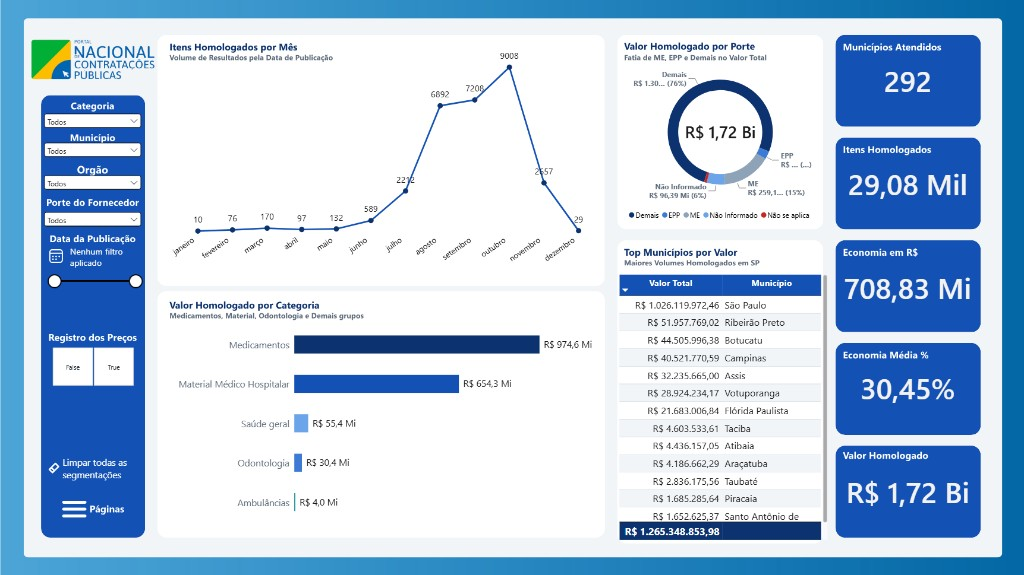

This screenshot's page, from the dashboard's own definition file:
{"tool":"powerbi","page":{"name":"Visão geral","canvas":[1920,1080],"ordinal":0},"visuals":[{"type":"cardVisual","fields":{"Data":["CountNonNull(pncp vw_analitica.numero_item)"]},"box":[1563.2,253.5,270.7,178.2],"z":0},{"type":"cardVisual","fields":{"Data":["Sum(pncp vw_analitica.valor_total_homologado)"]},"box":[1563.2,834.4,270.7,171.6],"z":1000},{"type":"cardVisual","fields":{"Data":["Medidas.Economia Media %"]},"box":[1563.2,637.7,270.7,174.3],"z":2000},{"type":"cardVisual","fields":{"Data":["Sum(pncp vw_analitica.economia_valor_total)"]},"box":[1563.2,447.6,270.7,178.2],"z":3000},{"type":"cardVisual","fields":{"Data":["Count(pncp vw_analitica.municipio)"]},"box":[1563.2,63.4,270.7,173],"z":4000},{"type":"barChart","fields":{"Category":["pncp vw_analitica.Categoria Label"],"Y":["Sum(pncp vw_analitica.valor_total_homologado)"]},"box":[302.3,577,822.5,429.1],"z":5000},{"type":"lineChart","fields":{"Category":["pncp vw_analitica.data_resultado.Variação.Hierarquia de datas.Mês"],"Y":["CountNonNull(pncp vw_analitica.categoria)"]},"box":[302.3,68.7,822.5,456.8],"z":6000},{"type":"donutChart","fields":{"Category":["pncp vw_analitica.porte_fornecedor"],"Y":["Medidas.Valor Homologado"]},"box":[1159.2,93.7,377.6,339.3],"z":7000},{"type":"tableEx","fields":{"Values":["Sum(pncp vw_analitica.valor_total_homologado)","pncp vw_analitica.municipio"]},"box":[1141.8,500.4,421.8,526.5],"z":8000},{"type":"slicer","fields":{"Values":["pncp vw_analitica.Categoria Label"]},"box":[78.5,208,190.5,66.9],"z":9000},{"type":"slicer","fields":{"Values":["pncp vw_analitica.municipio"]},"box":[78.5,261.8,190.5,65.5],"z":10000},{"type":"slicer","fields":{"Values":["pncp vw_analitica.orgao"]},"box":[78.5,322.9,190.5,50.9],"z":11000},{"type":"slicer","fields":{"Values":["pncp vw_analitica.porte_fornecedor"]},"box":[78.5,392.7,190.5,55.3],"z":12000},{"type":"slicer","fields":{"Values":["pncp vw_analitica.data_publicacao"]},"box":[80,455.3,191.4,170.3],"z":13000},{"type":"slicer","fields":{"Values":["pncp vw_analitica.registro_precos"]},"box":[78.5,648.7,191.4,75.3],"z":14000},{"type":"actionButton","box":[114,931.5,123.2,41.1],"z":15000},{"type":"actionButton","box":[80,834.9,189.1,85.8],"z":17000}]}

Visuals, with their boxes in screenshot pixels (x1, y1, x2, y2), scaled from the page's 1920x1080 canvas onto the 1024x575 screenshot:
cardVisual - CountNonNull(pncp vw_analitica.numero_item): bbox(834, 135, 978, 230)
cardVisual - Sum(pncp vw_analitica.valor_total_homologado): bbox(834, 444, 978, 536)
cardVisual - Medidas.Economia Media %: bbox(834, 340, 978, 432)
cardVisual - Sum(pncp vw_analitica.economia_valor_total): bbox(834, 238, 978, 333)
cardVisual - Count(pncp vw_analitica.municipio): bbox(834, 34, 978, 126)
barChart - pncp vw_analitica.Categoria Label x Sum(pncp vw_analitica.valor_total_homologado): bbox(161, 307, 600, 536)
lineChart - pncp vw_analitica.data_resultado.Variação.Hierarquia de datas.Mês x CountNonNull(pncp vw_analitica.categoria): bbox(161, 37, 600, 280)
donutChart - pncp vw_analitica.porte_fornecedor x Medidas.Valor Homologado: bbox(618, 50, 820, 231)
tableEx - Sum(pncp vw_analitica.valor_total_homologado) x pncp vw_analitica.municipio: bbox(609, 266, 834, 547)
slicer - pncp vw_analitica.Categoria Label: bbox(42, 111, 143, 146)
slicer - pncp vw_analitica.municipio: bbox(42, 139, 143, 174)
slicer - pncp vw_analitica.orgao: bbox(42, 172, 143, 199)
slicer - pncp vw_analitica.porte_fornecedor: bbox(42, 209, 143, 239)
slicer - pncp vw_analitica.data_publicacao: bbox(43, 242, 145, 333)
slicer - pncp vw_analitica.registro_precos: bbox(42, 345, 144, 385)
actionButton: bbox(61, 496, 127, 518)
actionButton: bbox(43, 445, 144, 490)
